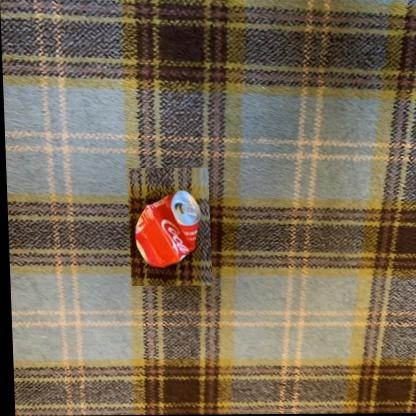trash: (135, 191, 200, 267)
